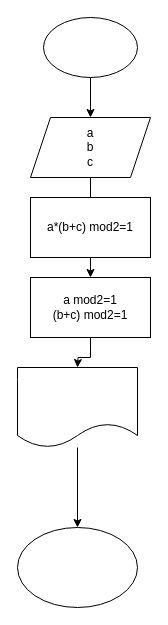
Some shapes in this 168 by 625 pixel diagram are drawn without their labels. The centre of each missing label's shape, as x and y in pixels:
"a tek sayı" "b+c tek sayı": [77,407]
başla: [90,47]
